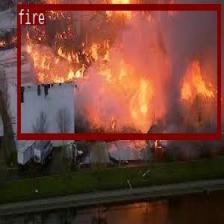fire: (17, 3, 220, 138)
